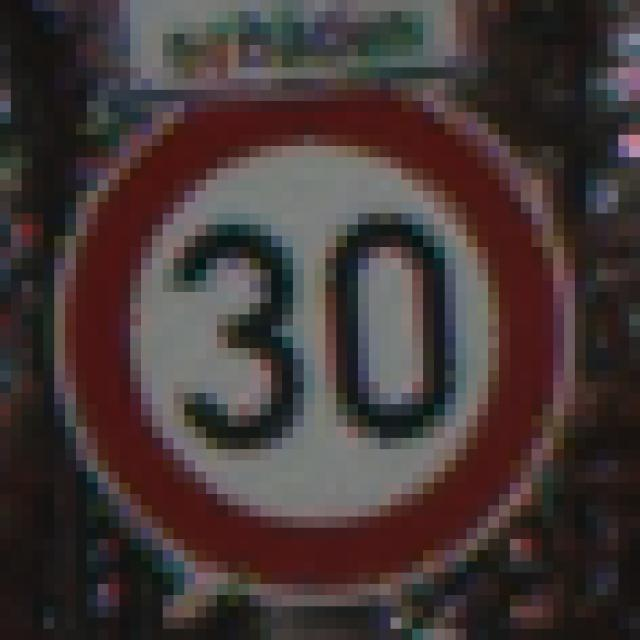Speed Limit -30-: (54, 51, 564, 578)
